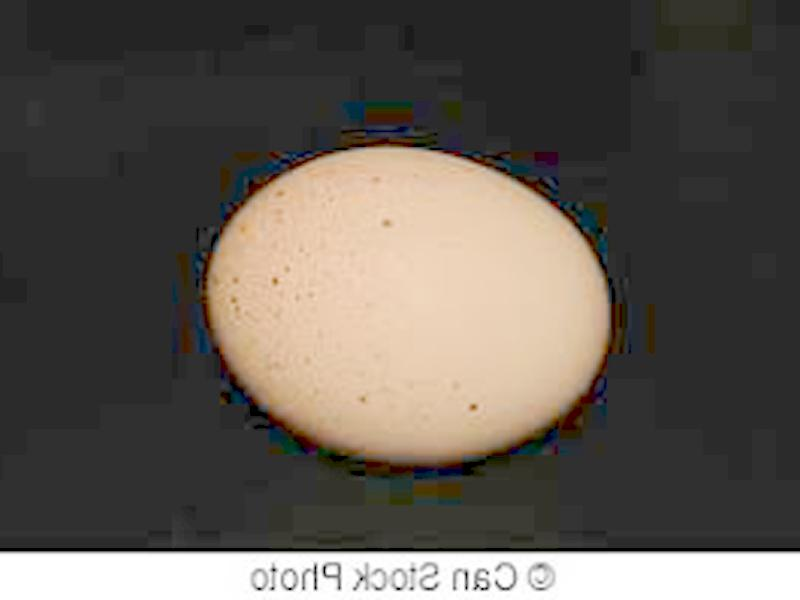Eggs: (210, 148, 609, 464)
